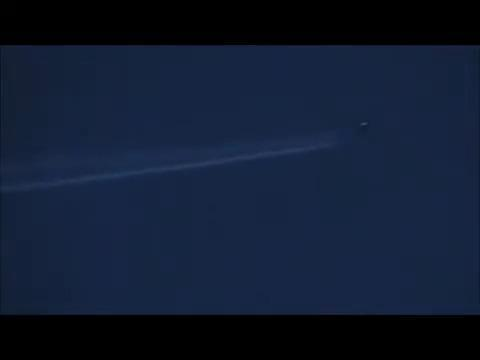Plane: (211, 114, 392, 162)
